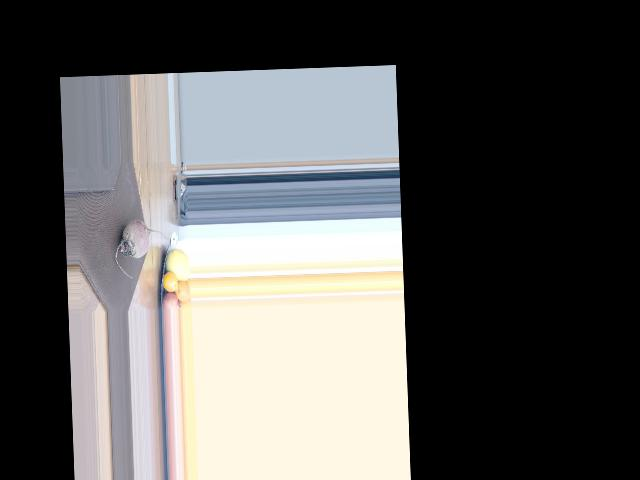beet: (114, 218, 167, 278)
